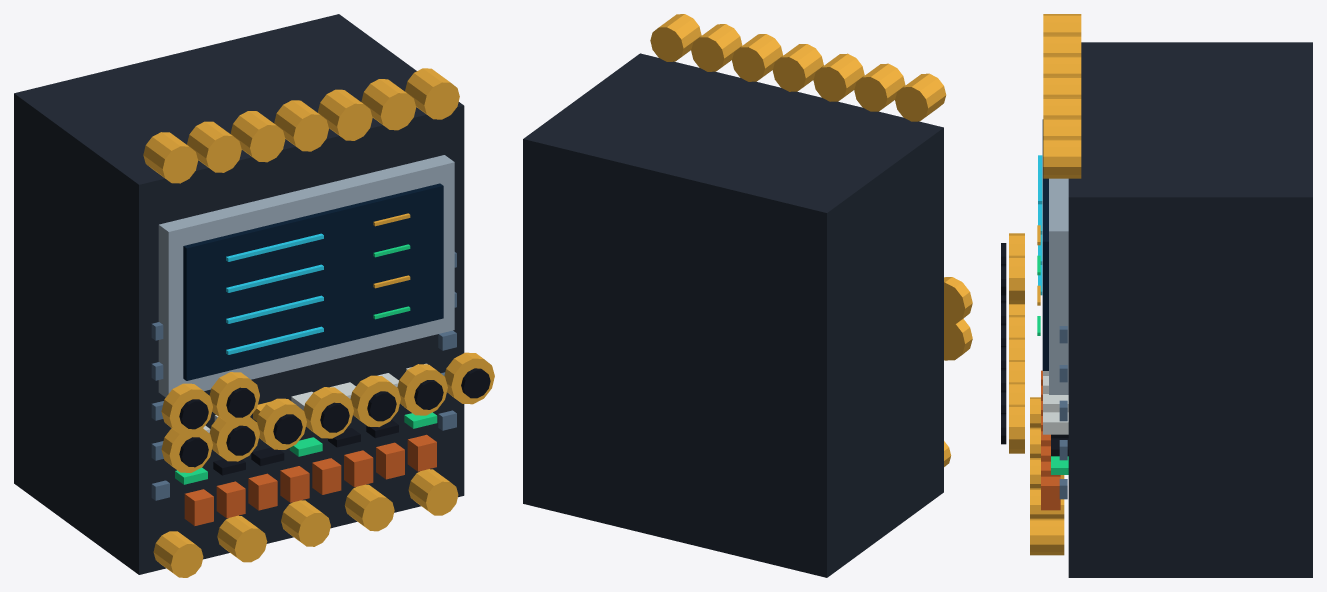
File: 17_L86_JointEncoderFeedbackArray.fbx
3 views of the same model, side by side, from view 1: azimuth 30°, elevation 25°; view 2: azimuth 150°, elevation 25°; view 3: azimuth 270°, elevation 25° (orthographic). The views are drawn at different scales.
Visible parts, largest first — view 1: L86_JointEncoderFeedbackArray, L86_JointEncoderFeedbackArray_Part_0010, L86_JointEncoderFeedbackArray_Part_0017, L86_JointEncoderFeedbackArray_Part_0021, L86_JointEncoderFeedbackArray_Part_0019, L86_JointEncoderFeedbackArray_Part_0015, L86_JointEncoderFeedbackArray_Part_0023, L86_JointEncoderFeedbackArray_Part_0027, L86_JointEncoderFeedbackArray_Part_0025, L86_JointEncoderFeedbackArray_Part_0011, L86_JointEncoderFeedbackArray_Part_0013, L86_JointEncoderFeedbackArray_Part_0020 (+8 smaller); view 2: L86_JointEncoderFeedbackArray, L86_JointEncoderFeedbackArray_Part_0010, L86_JointEncoderFeedbackArray_Part_0025, L86_JointEncoderFeedbackArray_Part_0011; view 3: L86_JointEncoderFeedbackArray, L86_JointEncoderFeedbackArray_Part_0010, L86_JointEncoderFeedbackArray_Part_0023, L86_JointEncoderFeedbackArray_Part_0027.
Boxes of the visible parts, x1=… form: L86_JointEncoderFeedbackArray: x1=14, y1=14, x2=464, y2=577; L86_JointEncoderFeedbackArray_Part_0010: x1=143, y1=68, x2=459, y2=183; L86_JointEncoderFeedbackArray_Part_0017: x1=303, y1=387, x2=353, y2=438; L86_JointEncoderFeedbackArray_Part_0021: x1=397, y1=364, x2=447, y2=415; L86_JointEncoderFeedbackArray_Part_0019: x1=350, y1=375, x2=400, y2=426; L86_JointEncoderFeedbackArray_Part_0015: x1=256, y1=398, x2=306, y2=449; L86_JointEncoderFeedbackArray_Part_0023: x1=444, y1=352, x2=494, y2=404; L86_JointEncoderFeedbackArray_Part_0027: x1=209, y1=372, x2=259, y2=423; L86_JointEncoderFeedbackArray_Part_0025: x1=161, y1=383, x2=212, y2=434; L86_JointEncoderFeedbackArray_Part_0011: x1=161, y1=427, x2=212, y2=472; L86_JointEncoderFeedbackArray_Part_0013: x1=209, y1=416, x2=259, y2=461; L86_JointEncoderFeedbackArray_Part_0020: x1=367, y1=391, x2=396, y2=421; L86_JointEncoderFeedbackArray: x1=523, y1=53, x2=951, y2=577; L86_JointEncoderFeedbackArray_Part_0010: x1=650, y1=14, x2=946, y2=121; L86_JointEncoderFeedbackArray_Part_0025: x1=944, y1=277, x2=972, y2=324; L86_JointEncoderFeedbackArray_Part_0011: x1=944, y1=318, x2=972, y2=360; L86_JointEncoderFeedbackArray: x1=1030, y1=42, x2=1312, y2=577; L86_JointEncoderFeedbackArray_Part_0010: x1=1043, y1=14, x2=1081, y2=178; L86_JointEncoderFeedbackArray_Part_0023: x1=1009, y1=404, x2=1024, y2=453; L86_JointEncoderFeedbackArray_Part_0027: x1=1009, y1=255, x2=1024, y2=304.
Bounding box in the file's own units: 97 × 123 × 82.5.
